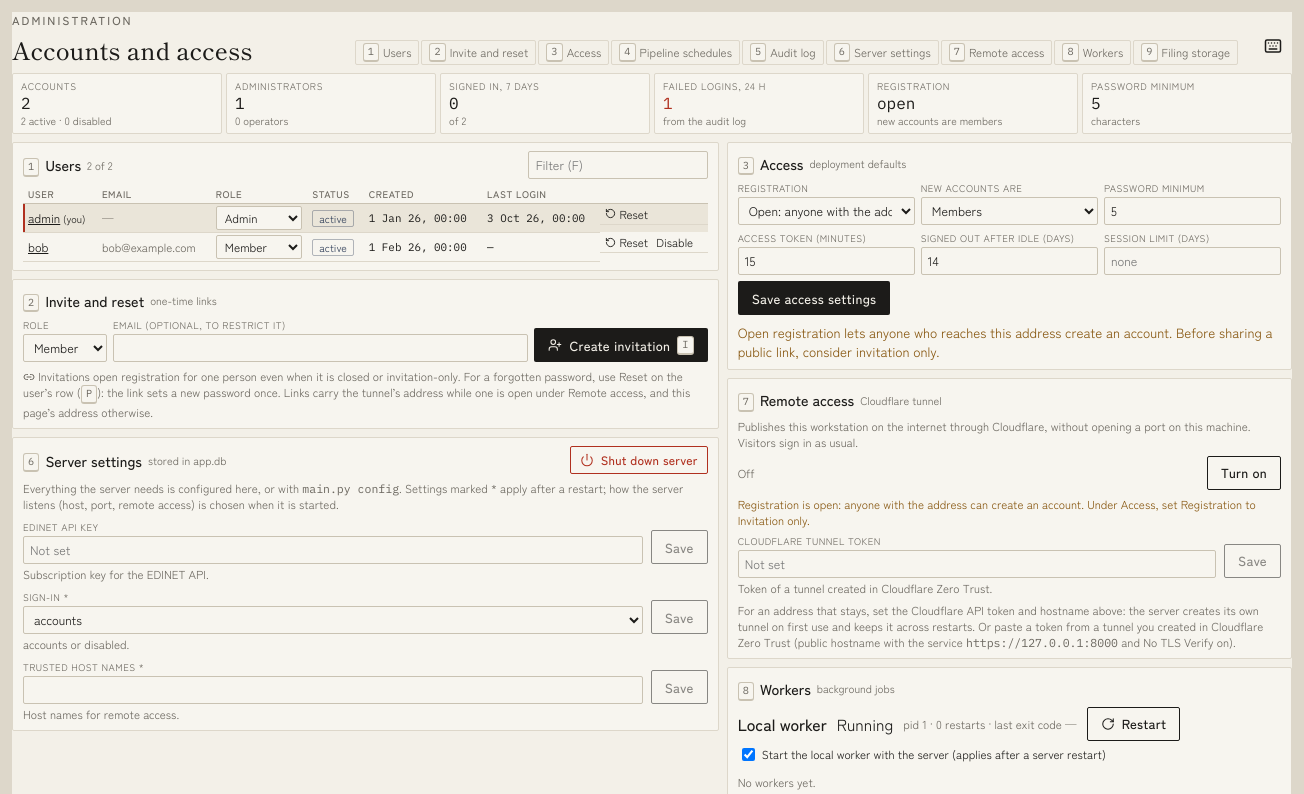
Test: AdminPage › saves server settings without ever showing the API key
The image size is (1304, 794).
Type "provider-secret" into the password field labelled "EDINET API key" at (333, 550), box [23,536,643,564]
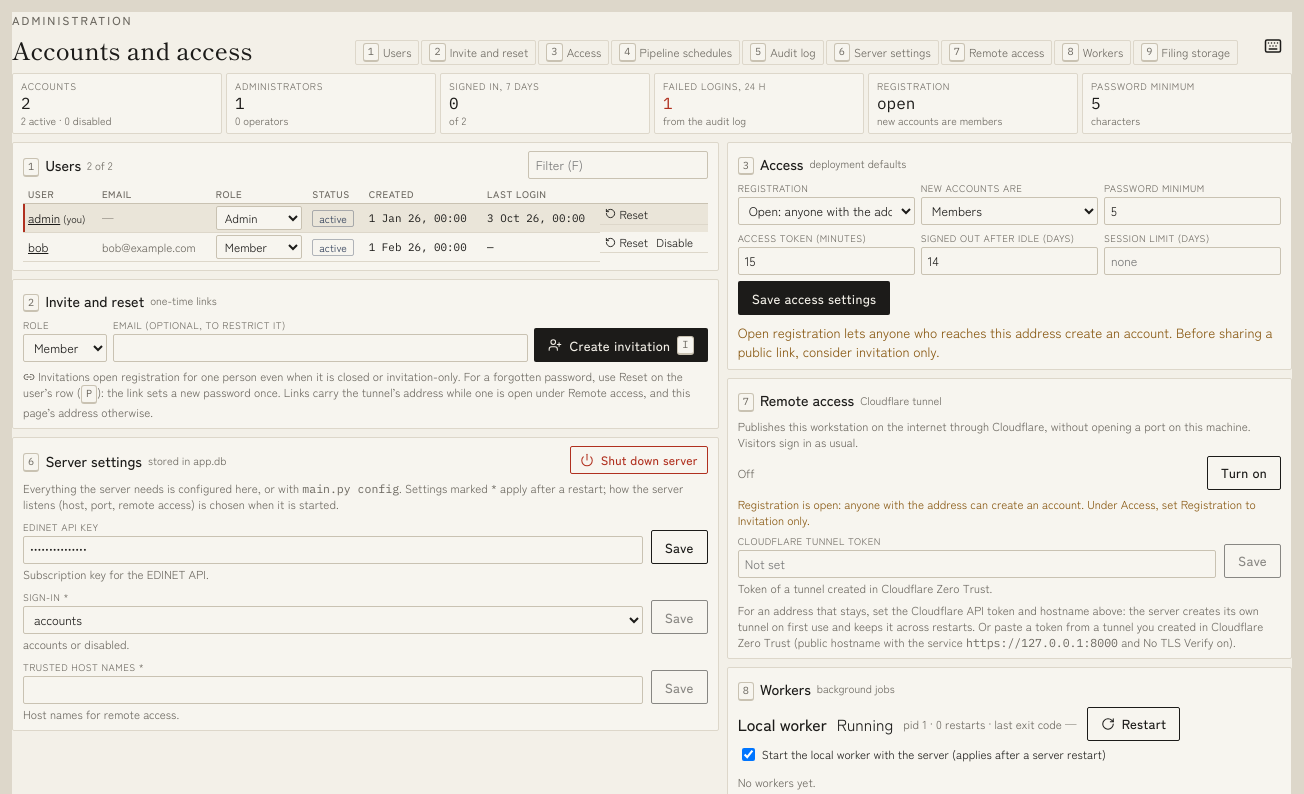
Click the button "Save" in the row of "EDINET API key" at (679, 547), box [651,530,708,564]
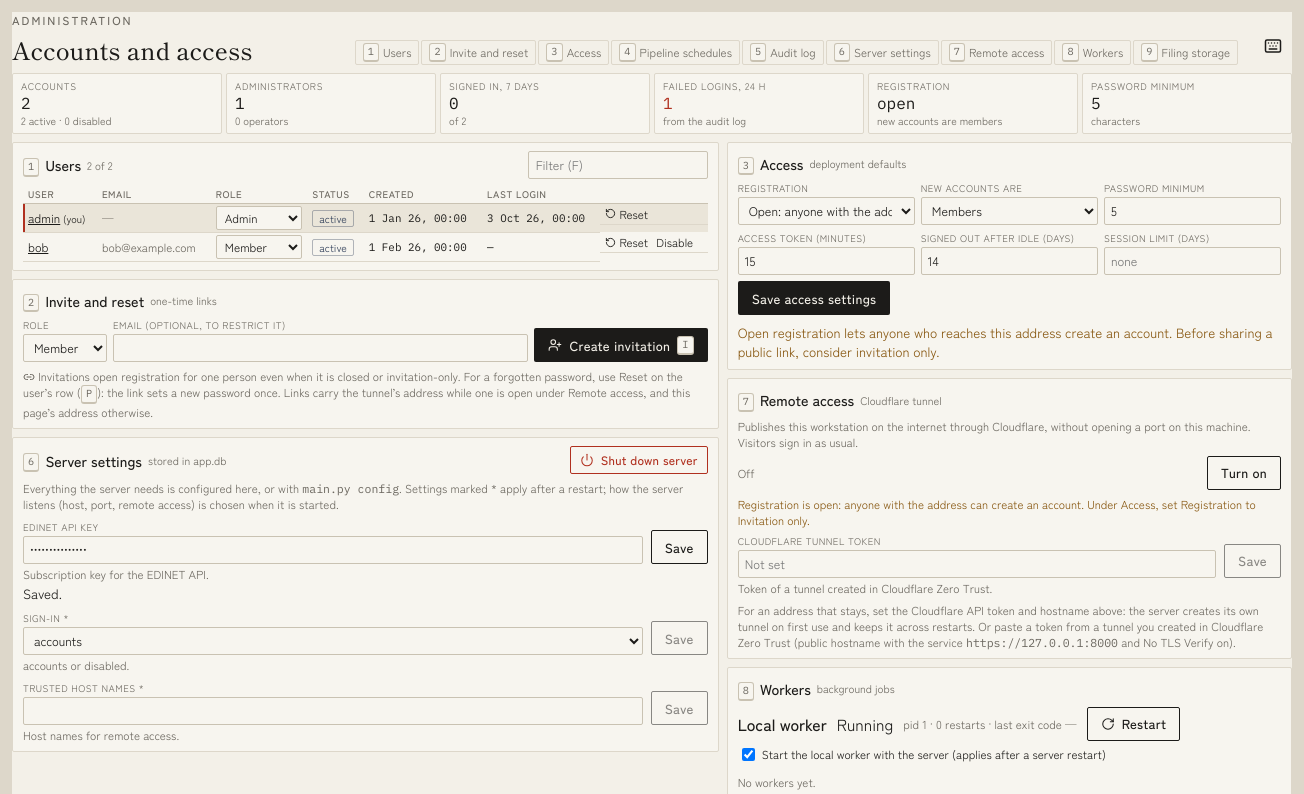
Type "research.example, shade.example" into the field labelled "Trusted host names *" at (333, 711), box [23,697,643,725]
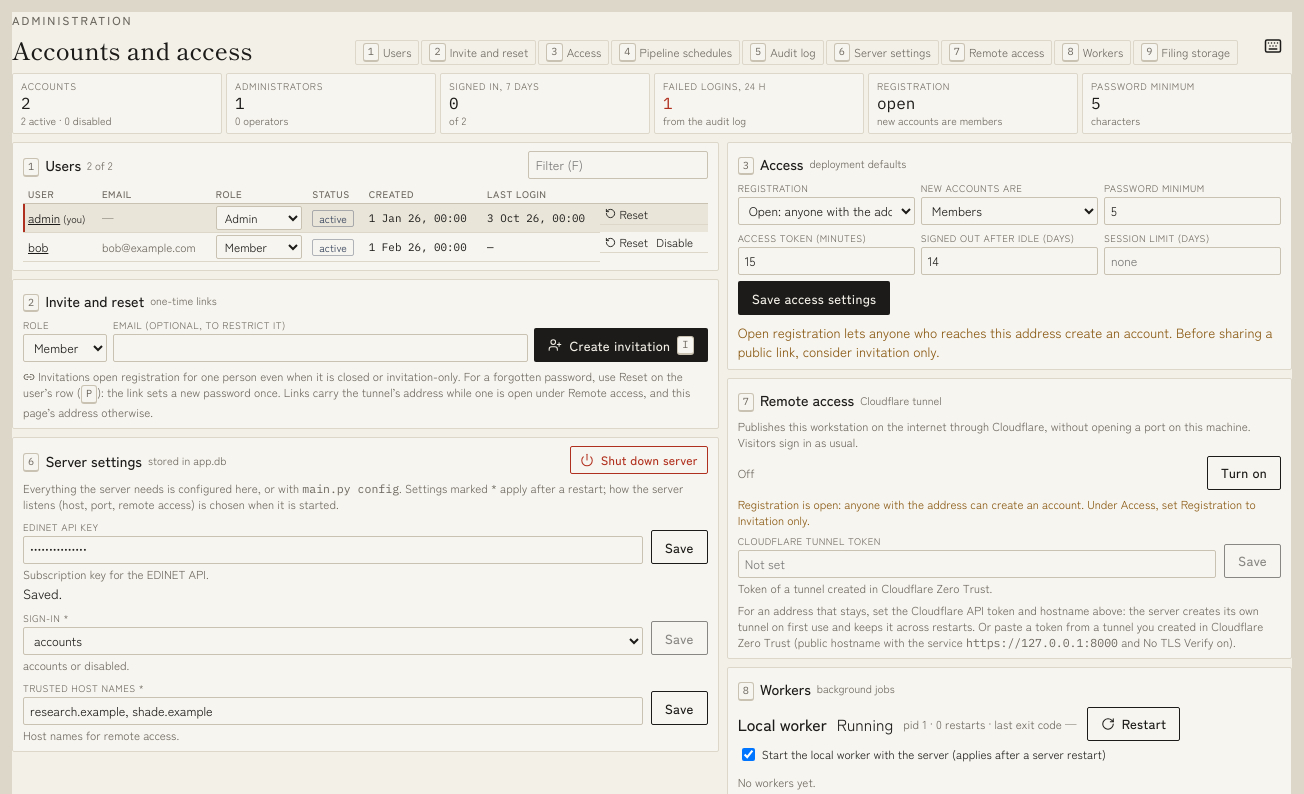
Click the button "Save" in the row of "Trusted host names *" at (679, 708), box [651,691,708,725]
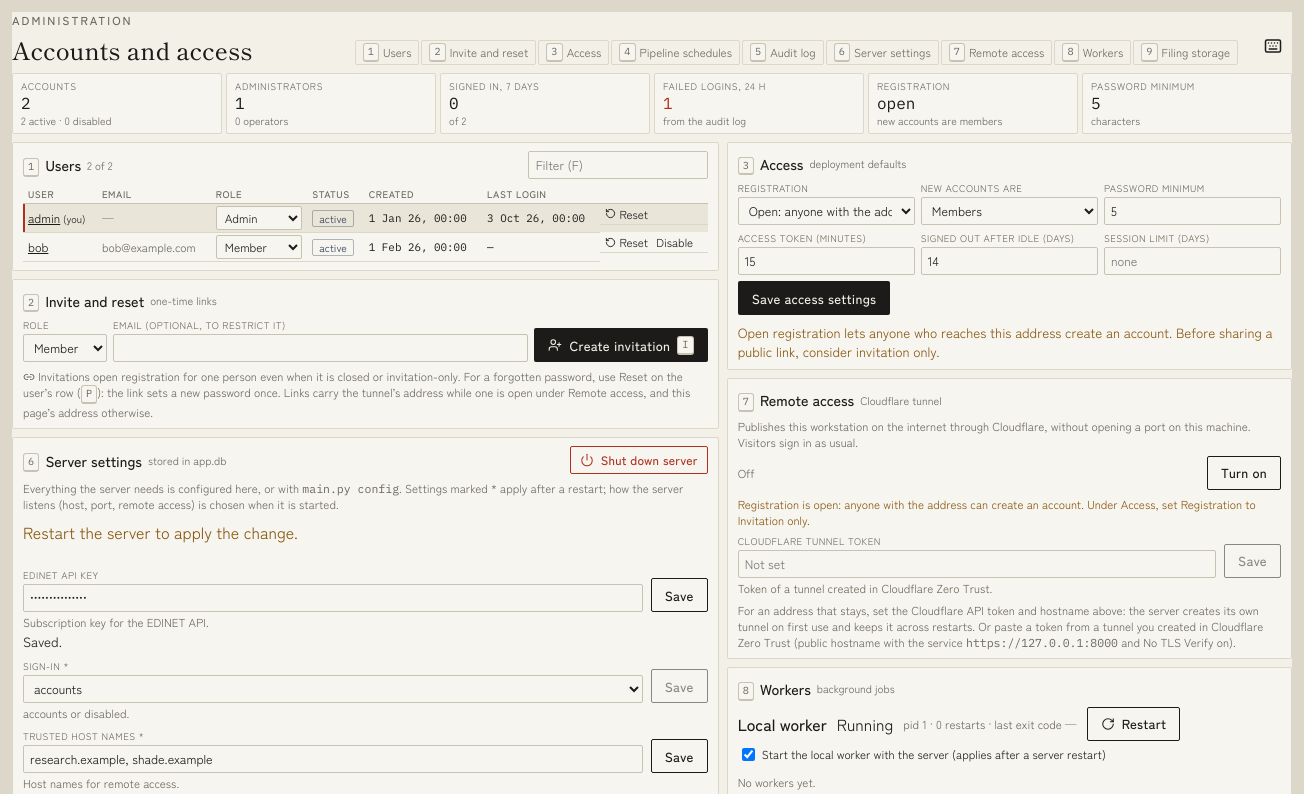
Result: the text "Restart the server to apply the change." is shown at [23,520,298,544]
